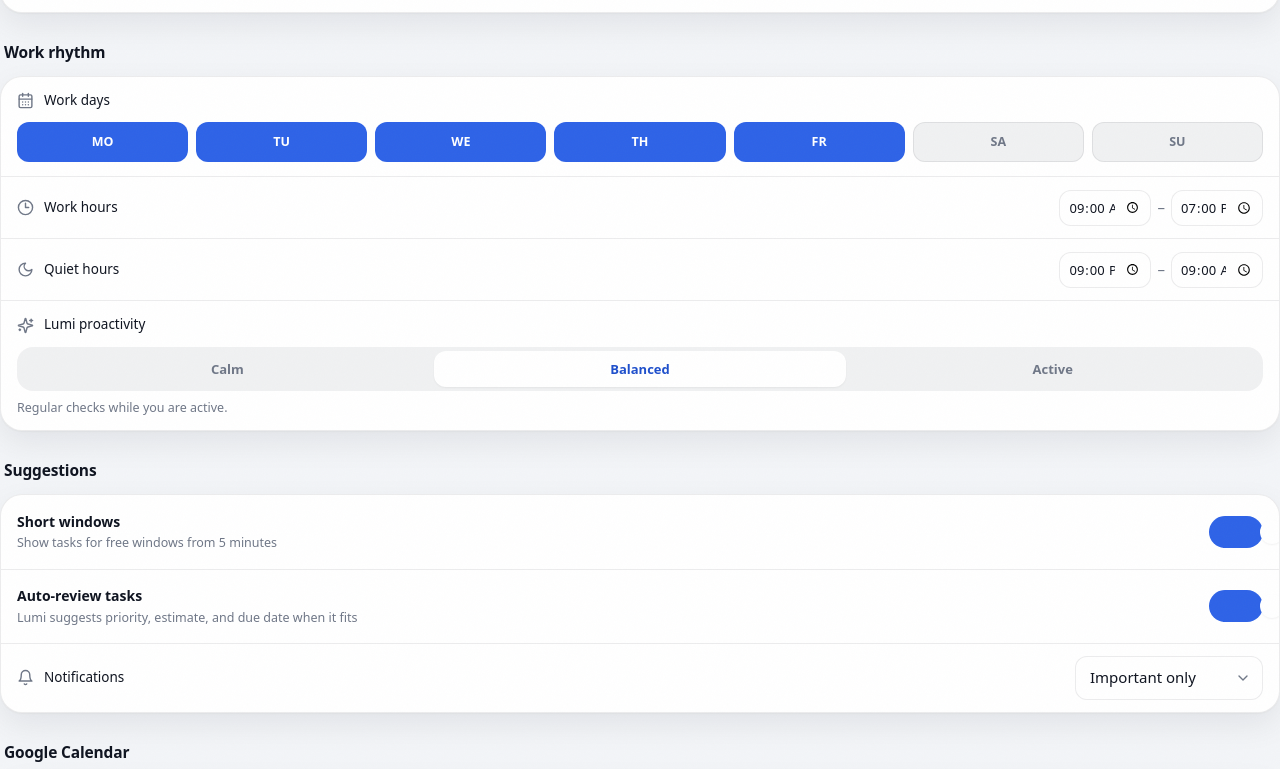
Test case: SettingsPage language settings › shows a distinct description for each Lumi proactivity mode
(page scrolled)
Expected: the text "Regular checks while you are active." is shown, [17,399,228,416]
Click the button "Calm" at (227, 369), box [21,351,434,387]
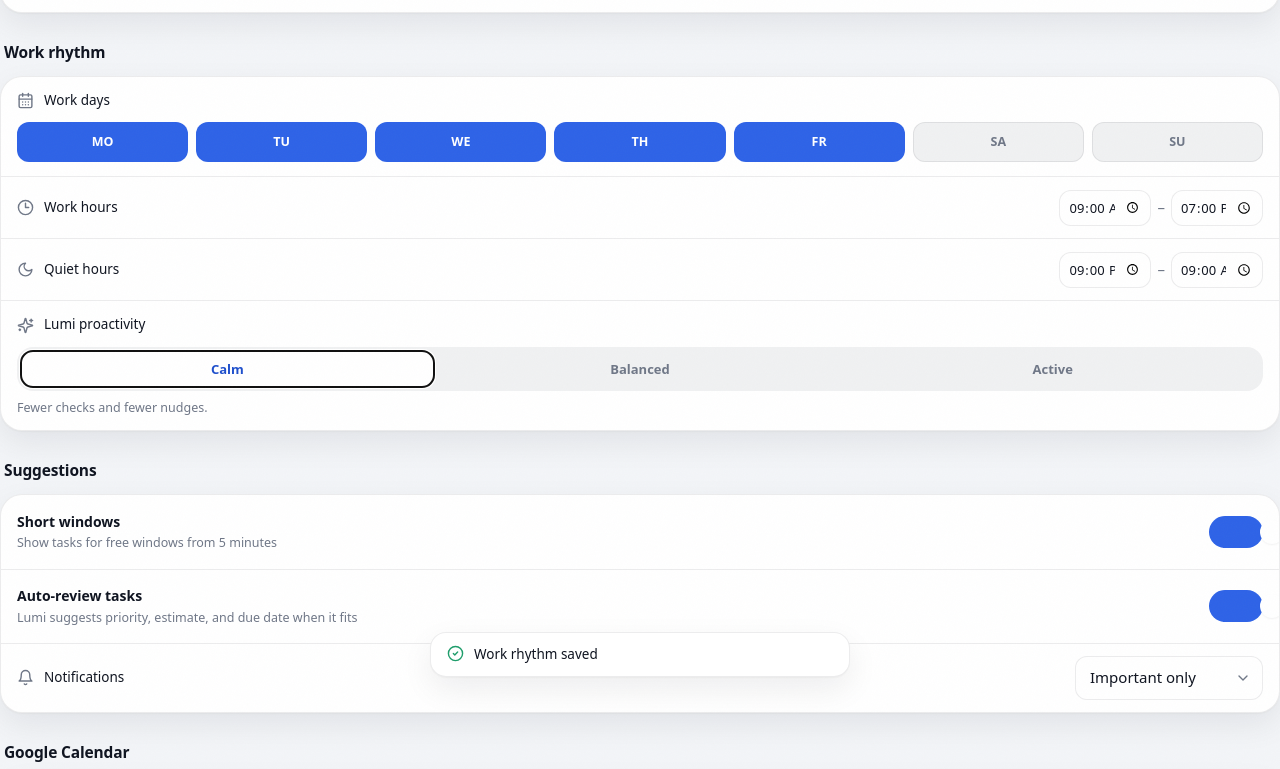
Expected: the text "Fewer checks and fewer nudges." is shown, [17,399,208,416]
Click the button "Active" at (1053, 369), box [846,351,1259,387]
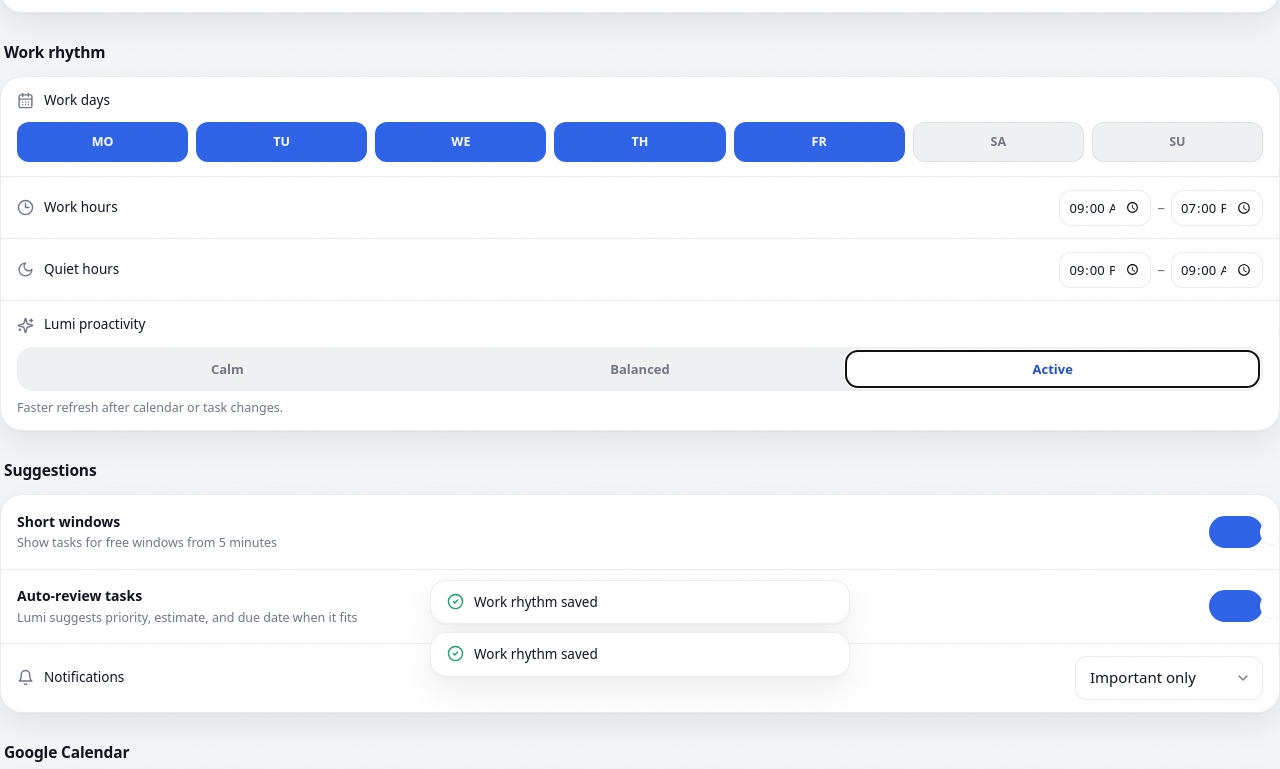
Expected: the text "Faster refresh after calendar or task changes." is shown, [17,399,283,416]
